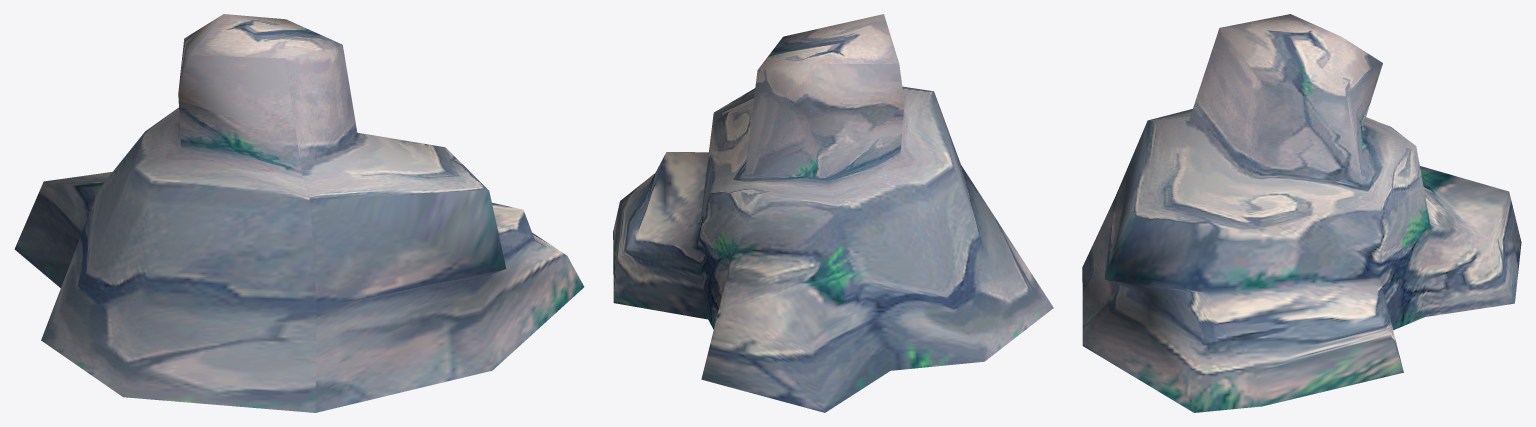
File: loyalismwood_round03.FBX
3 renders of one model, left to right at view 1: azimuth 30°, elevation 25°; view 2: azimuth 150°, elevation 25°; view 3: azimuth 270°, elevation 25°, orthographic. The views are drawn at different scales.
Visible parts, largest first — view 1: loyalismwood_round03; view 2: loyalismwood_round03; view 3: loyalismwood_round03.
Part boxes in pixels (bbox=[...]): loyalismwood_round03: bbox=[14, 14, 584, 412]; loyalismwood_round03: bbox=[613, 14, 1053, 412]; loyalismwood_round03: bbox=[1082, 14, 1521, 412].
Bounding box in the file's own units: 403 × 367 × 241.
Materials: 1 (1 with a texture image).
